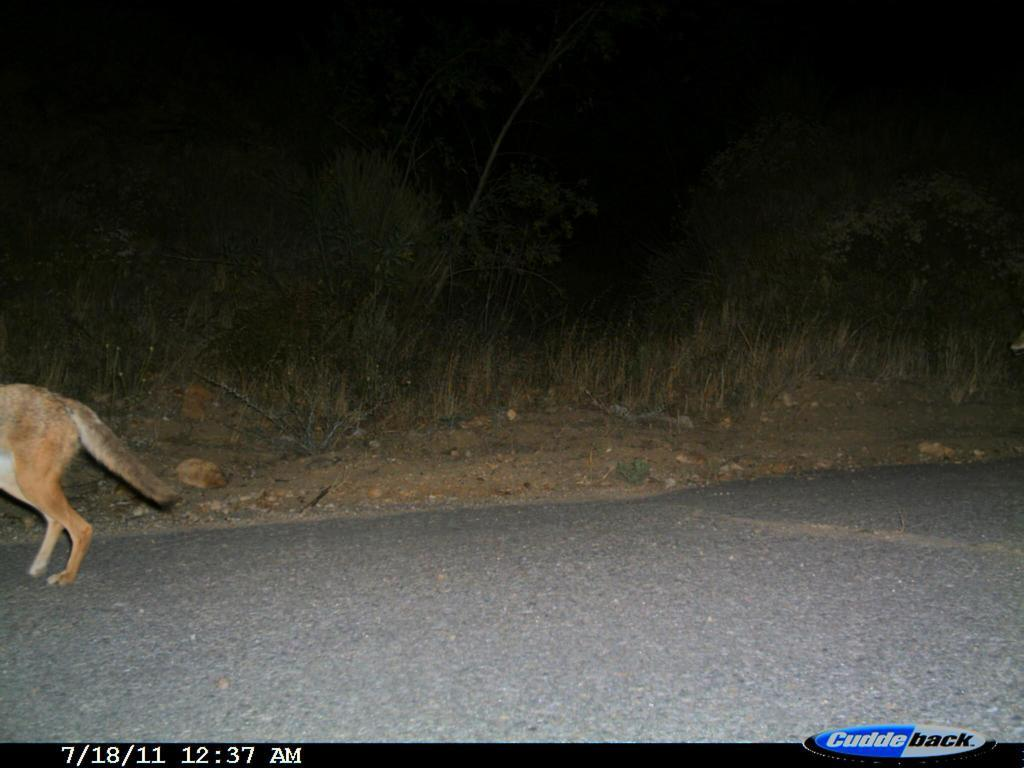coyote: (2, 361, 181, 606)
